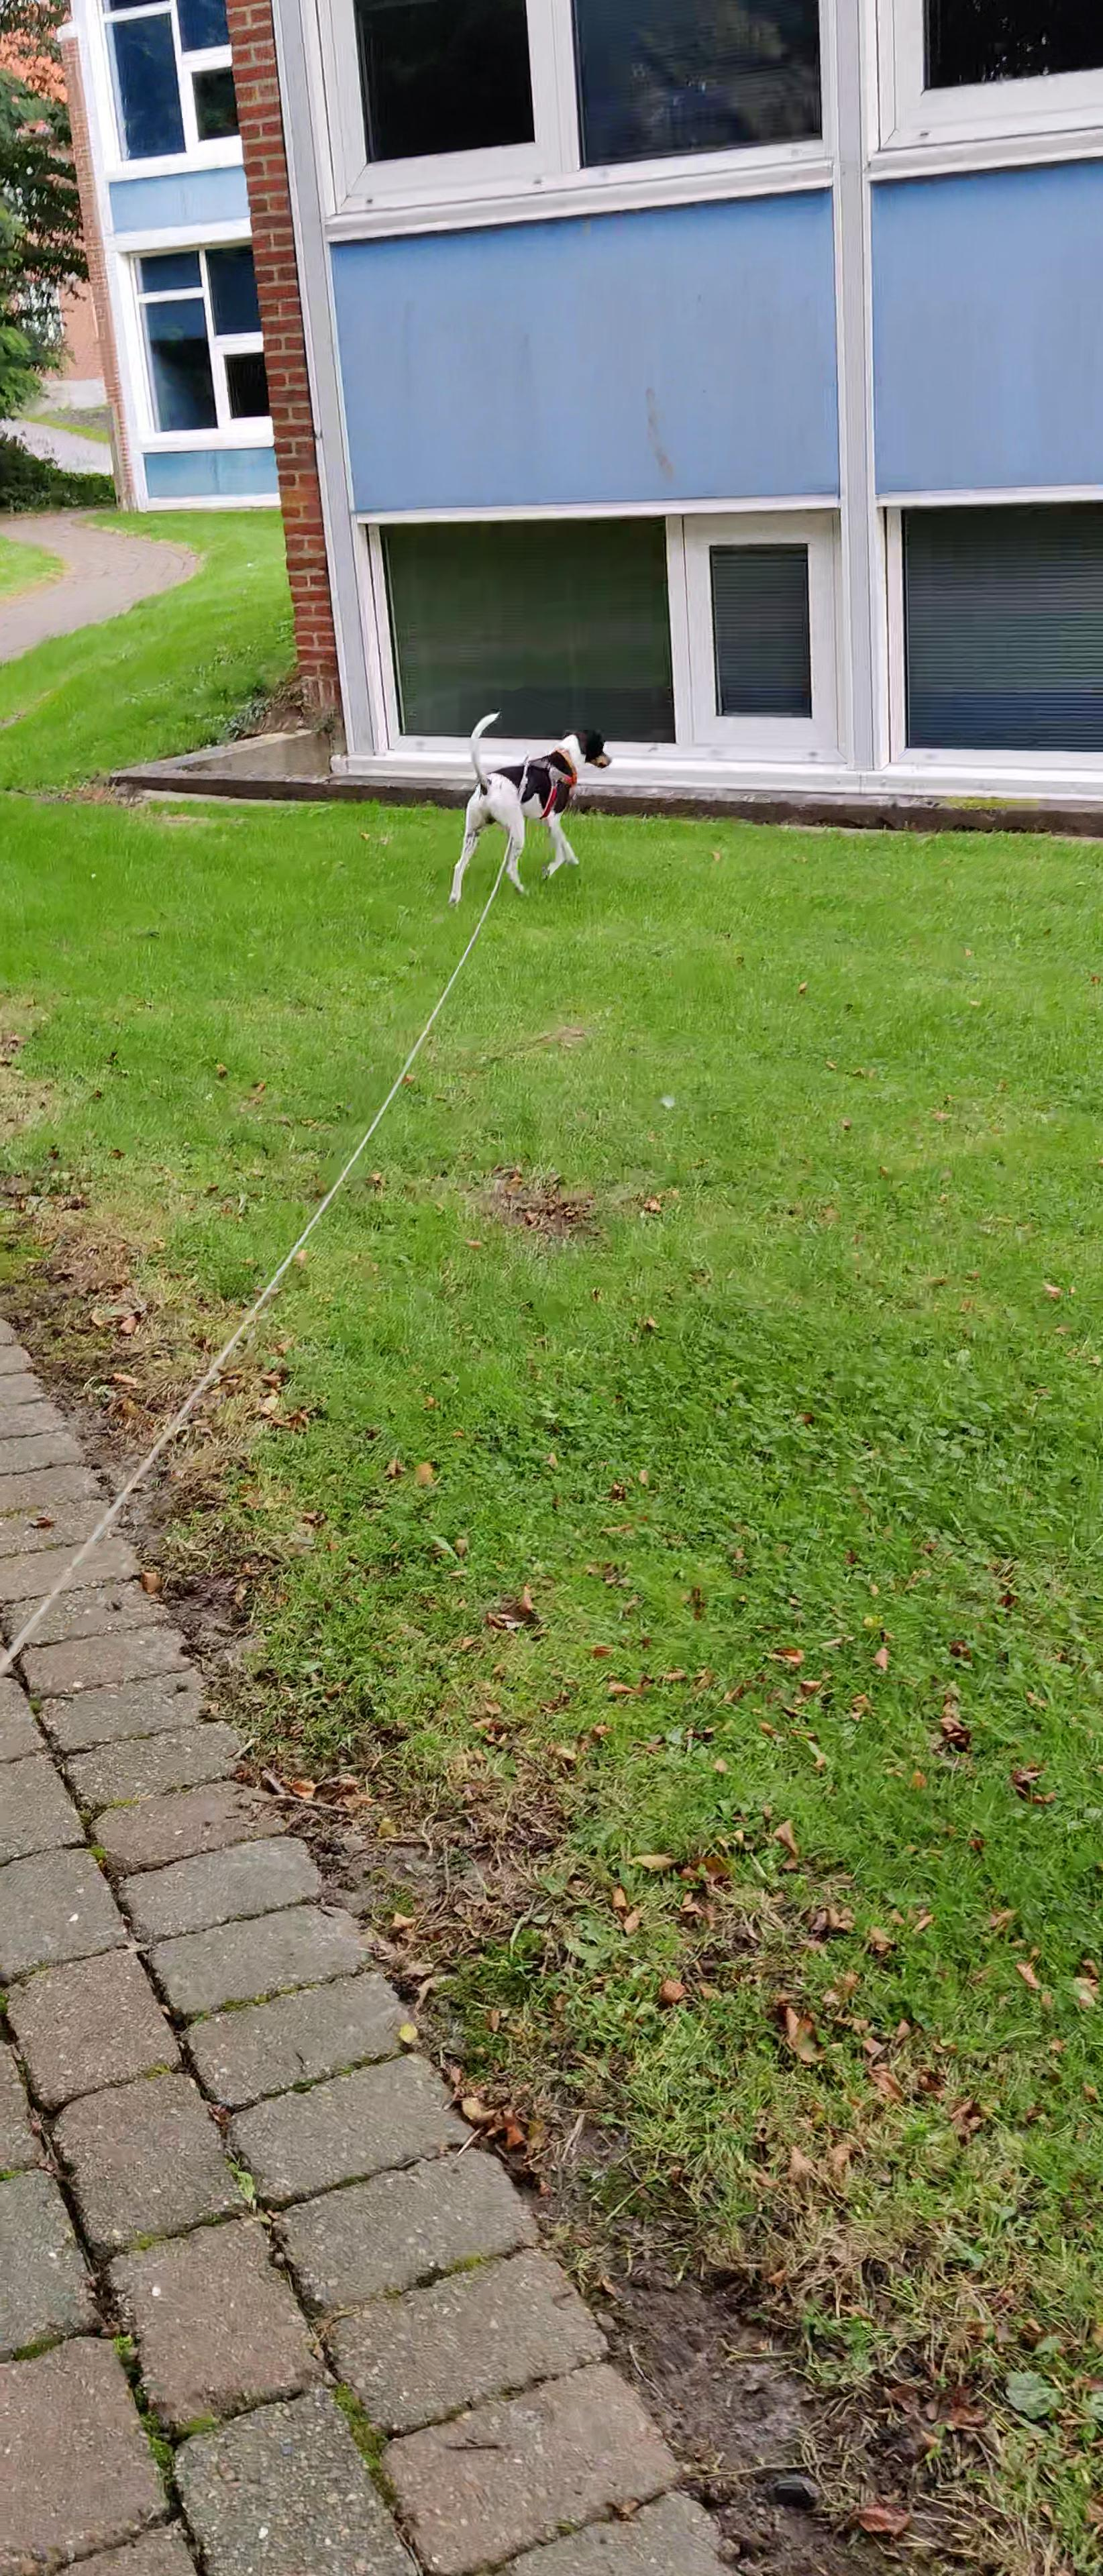Dog: (444, 705, 618, 904)
